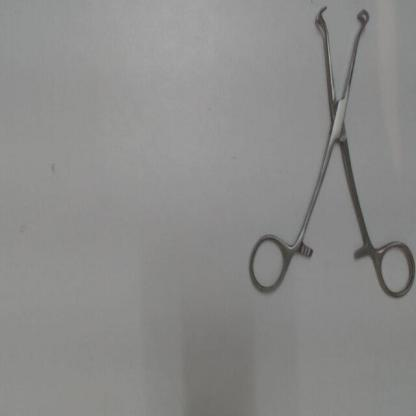Babcock Tissue Forceps: (241, 2, 415, 307)
